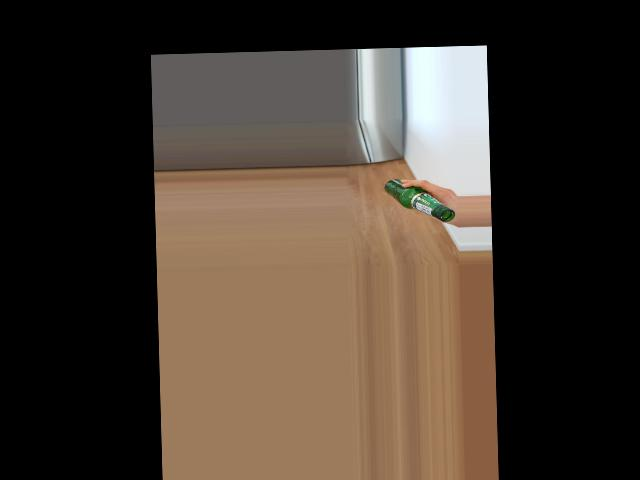beer: (384, 177, 455, 223)
